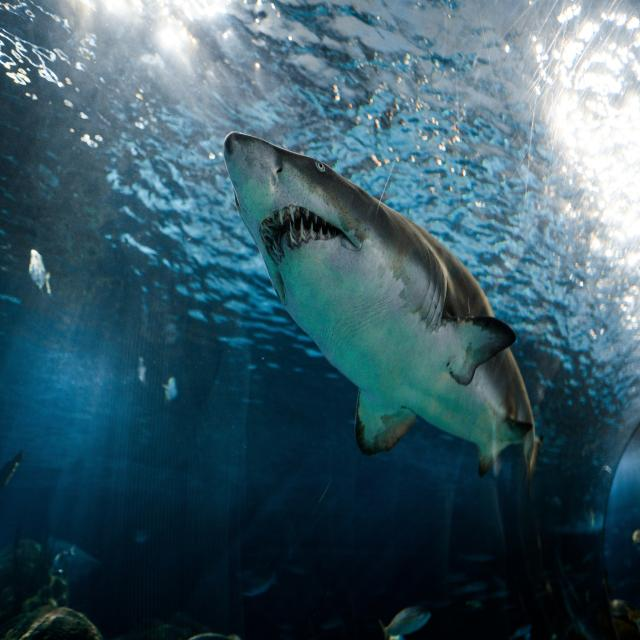gaviota: (224, 132, 537, 481)
